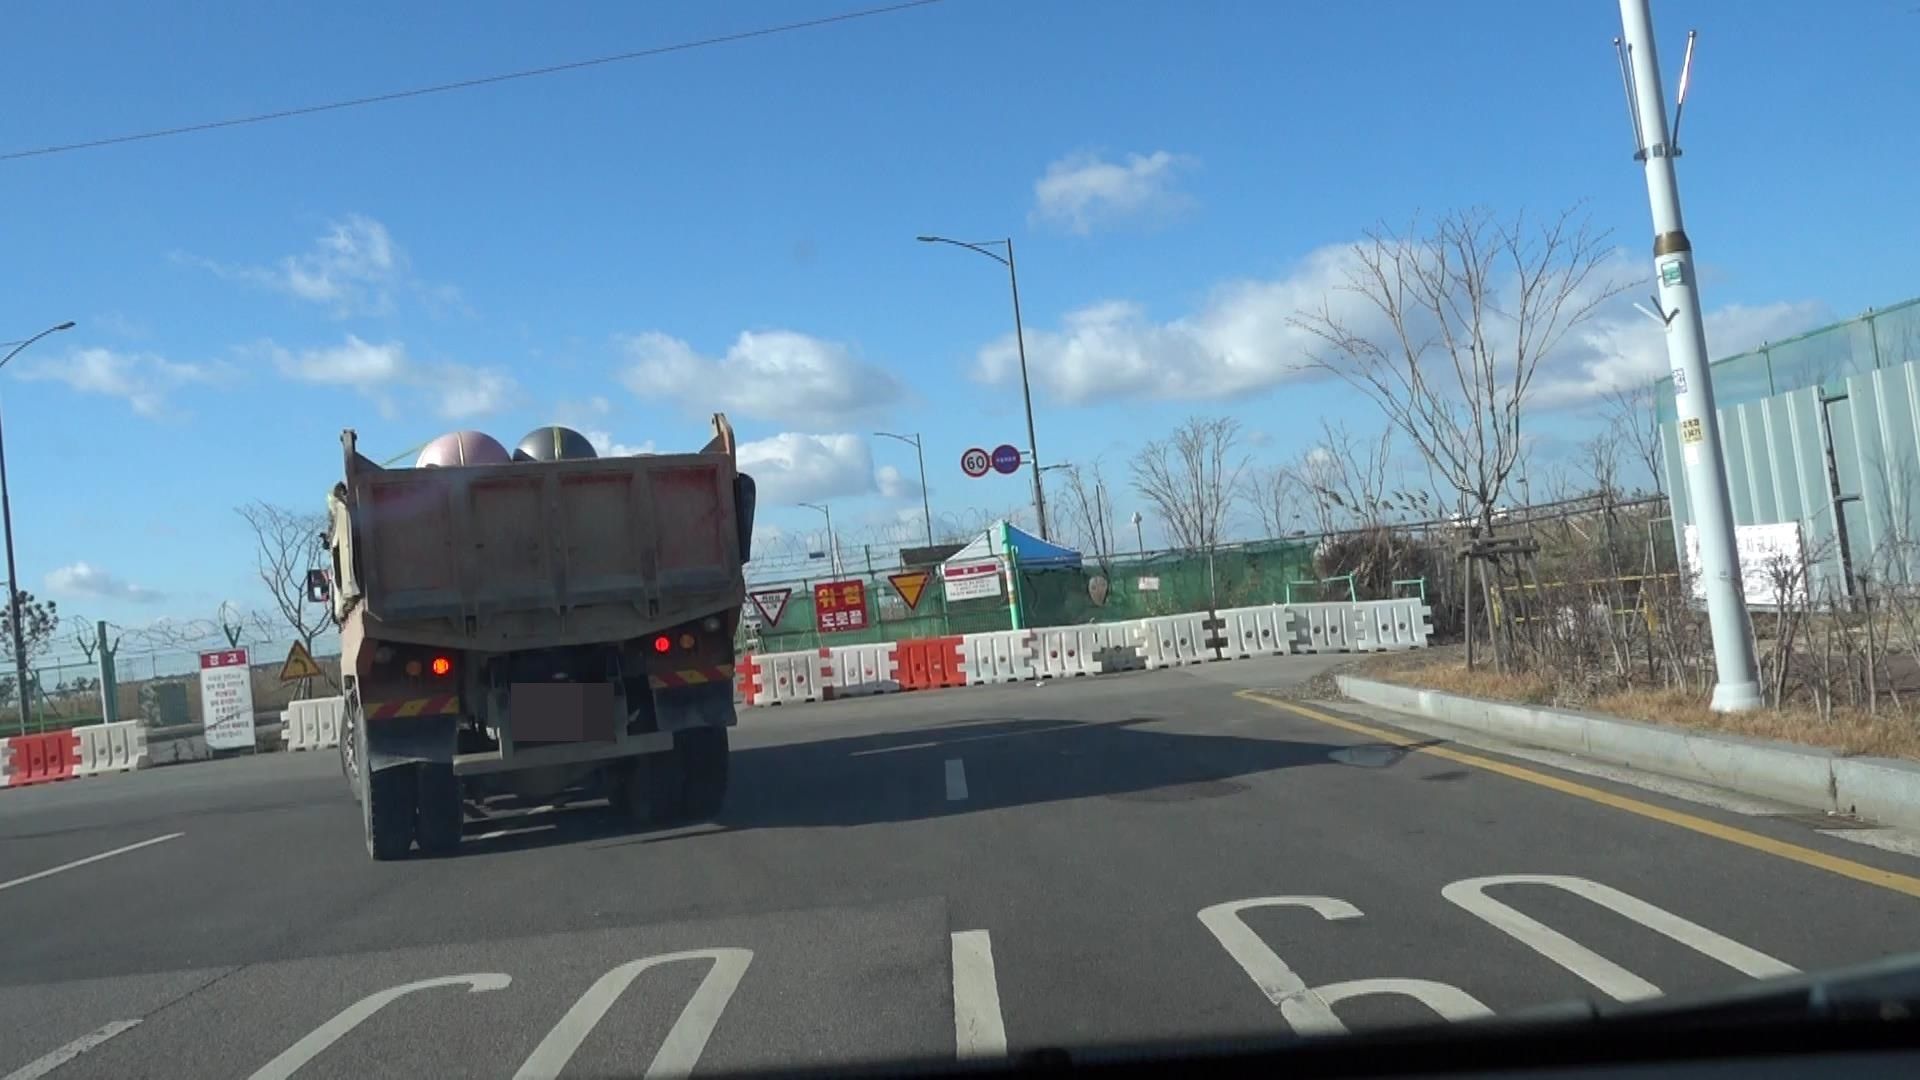불법차량: (309, 413, 757, 862)
